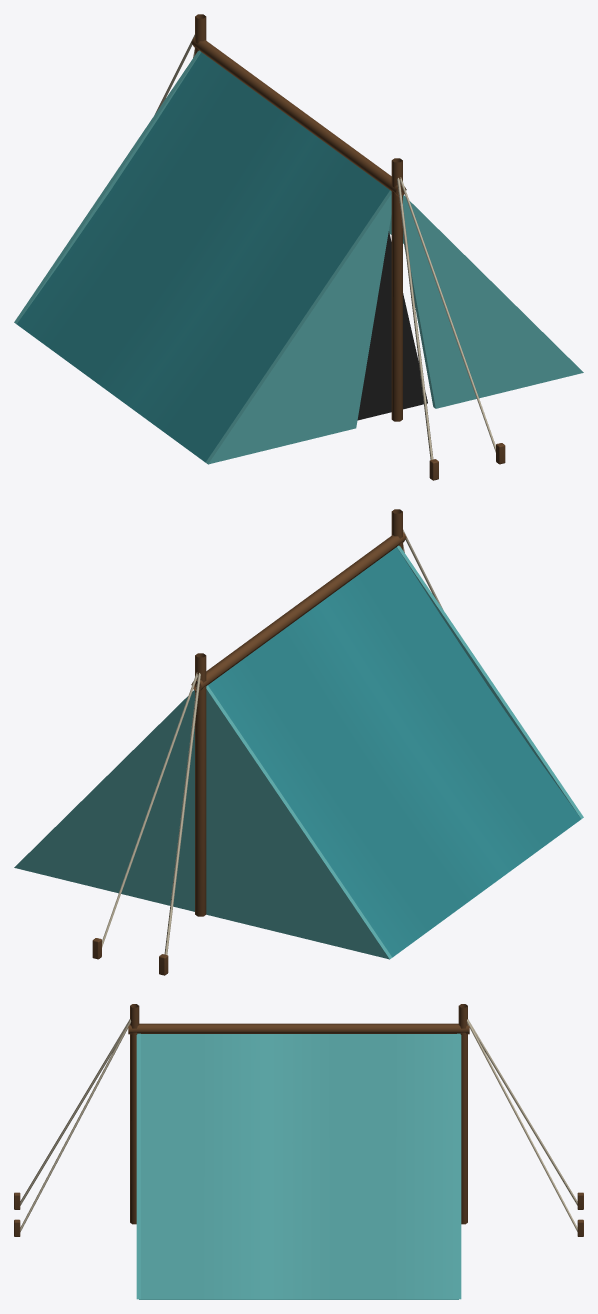
The model's file is tent_1.glb.
3 views of the same model, one above another, from view 1: azimuth 30°, elevation 25°; view 2: azimuth 150°, elevation 25°; view 3: azimuth 270°, elevation 25° (orthographic). The views are drawn at different scales.
Parts seen in each view (by area): view 1: tent_1_main; view 2: tent_1_main; view 3: tent_1_main.
Boxes of the visible parts, x1,y1,x2,y2 form: tent_1_main: [14, 14, 583, 480]; tent_1_main: [14, 509, 583, 975]; tent_1_main: [14, 1004, 583, 1299].
Bounding box in the file's own units: 1.7 × 1.13 × 2.67.
